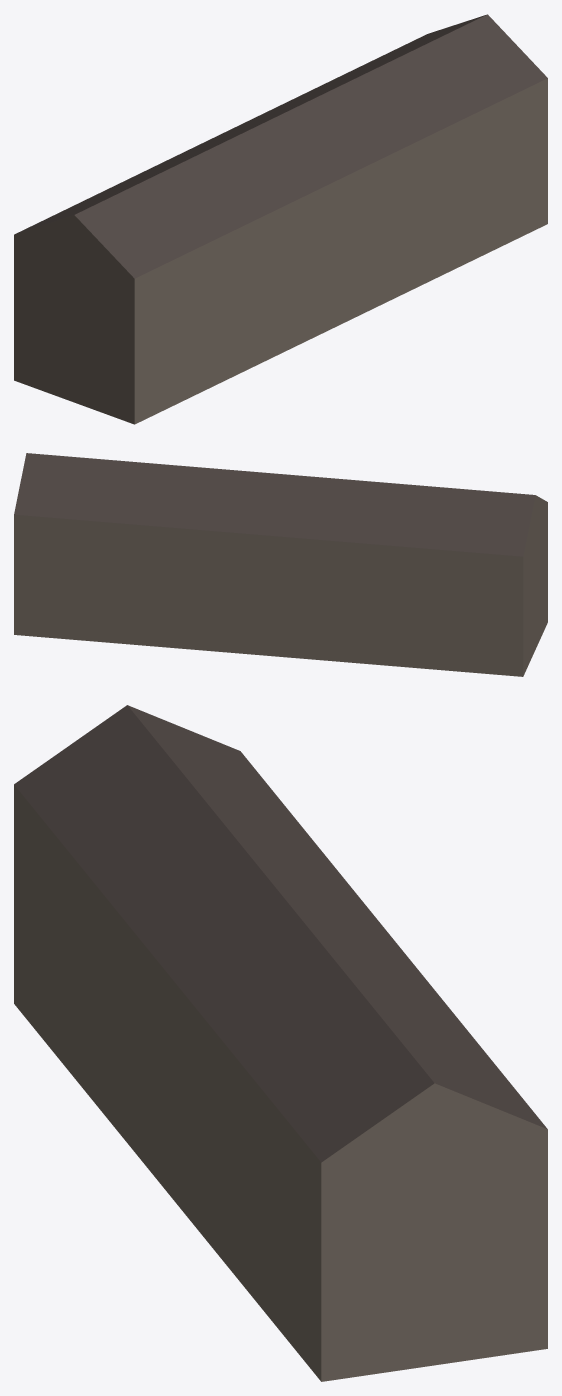
The picture shows the model from 3 angles, top to bottom: view 1: azimuth 30°, elevation 25°; view 2: azimuth 150°, elevation 25°; view 3: azimuth 270°, elevation 25°; orthographic projection. The views are drawn at different scales.
Parts seen in each view (by area): view 1: HP-w408450662; view 2: HP-w408450662; view 3: HP-w408450662.
Boxes of the visible parts, x1=… form: HP-w408450662: x1=14, y1=14, x2=547, y2=424; HP-w408450662: x1=14, y1=453, x2=547, y2=676; HP-w408450662: x1=14, y1=705, x2=547, y2=1381.
Size of the model in its own units: 36.21 by 11.57 by 19.86.
